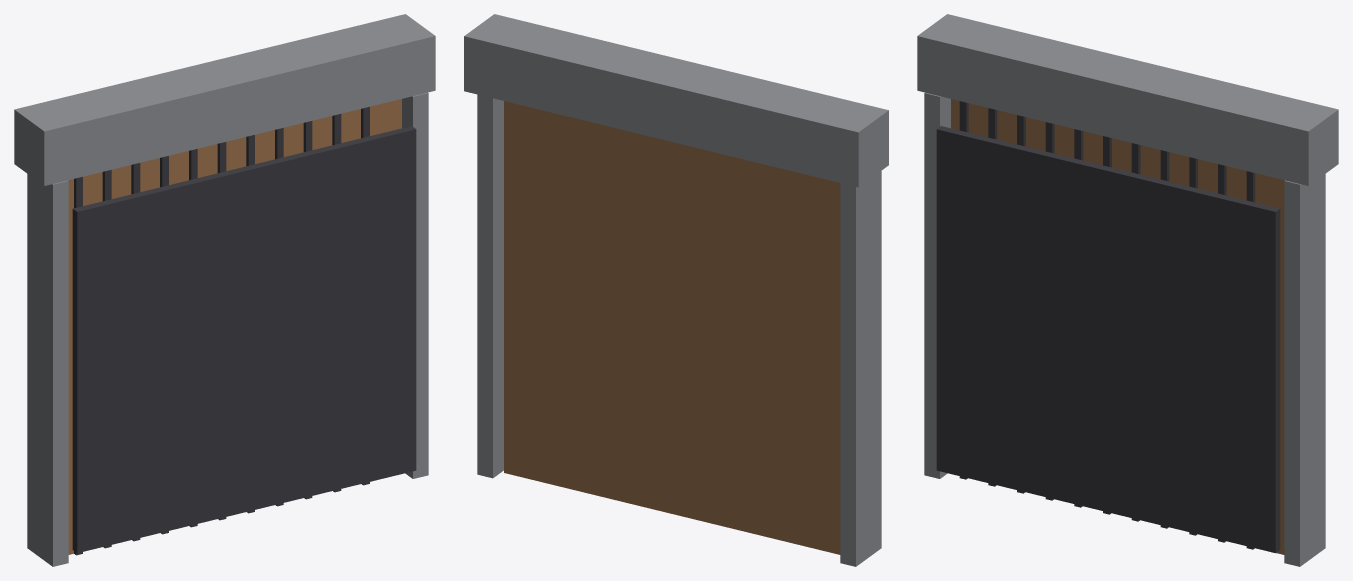
The model's file is prop_shutter_rust_heavy.glb.
3 views of the same model, side by side, from view 1: azimuth 30°, elevation 25°; view 2: azimuth 150°, elevation 25°; view 3: azimuth 330°, elevation 25° (orthographic).
Visible parts, largest first — view 1: shutter_rust_heavy; view 2: shutter_rust_heavy; view 3: shutter_rust_heavy.
Boxes of the visible parts, x1=… form: shutter_rust_heavy: x1=14, y1=14, x2=435, y2=566; shutter_rust_heavy: x1=464, y1=14, x2=888, y2=566; shutter_rust_heavy: x1=917, y1=14, x2=1338, y2=566.
Bounding box in the file's own units: 3 × 3.2 × 0.49.
